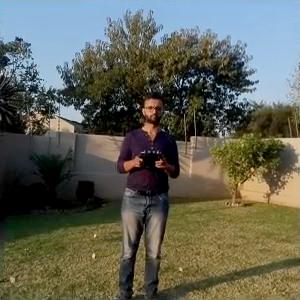follow: (110, 88, 183, 299)
